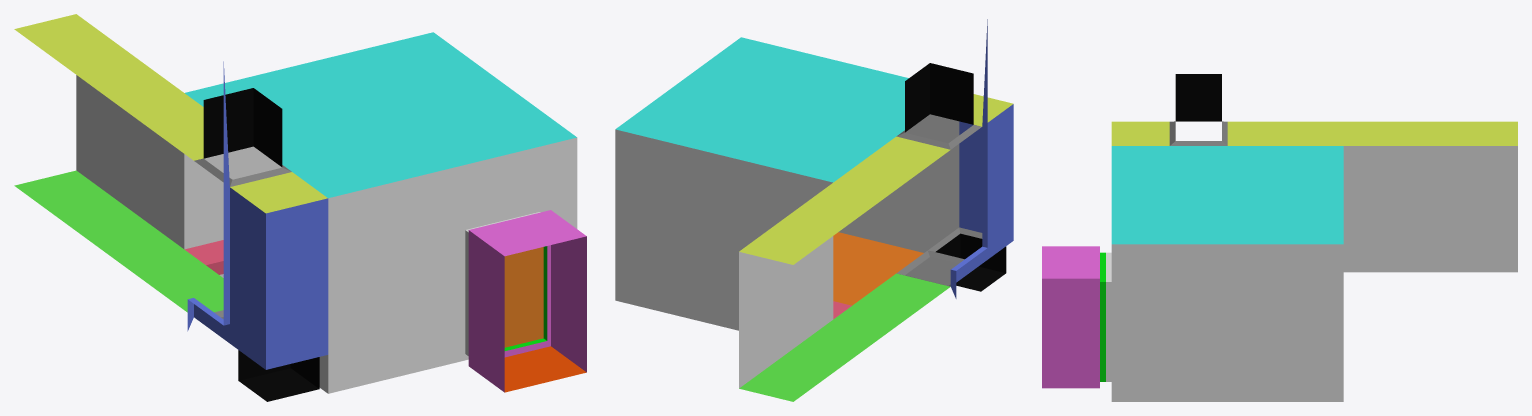
Rendered from room.fbx.
3 renders of one model, left to right at view 1: azimuth 30°, elevation 25°; view 2: azimuth 150°, elevation 25°; view 3: azimuth 270°, elevation 25°, orthographic. The views are drawn at different scales.
Parts seen in each view (by area): view 1: Plane; view 2: Plane; view 3: Plane.
Boxes of the visible parts, <box> form: Plane: <box>14,14,586,401</box>; Plane: <box>615,19,1013,401</box>; Plane: <box>1042,74,1517,401</box>.
Size of the model in its own units: 510 by 500 by 820.
